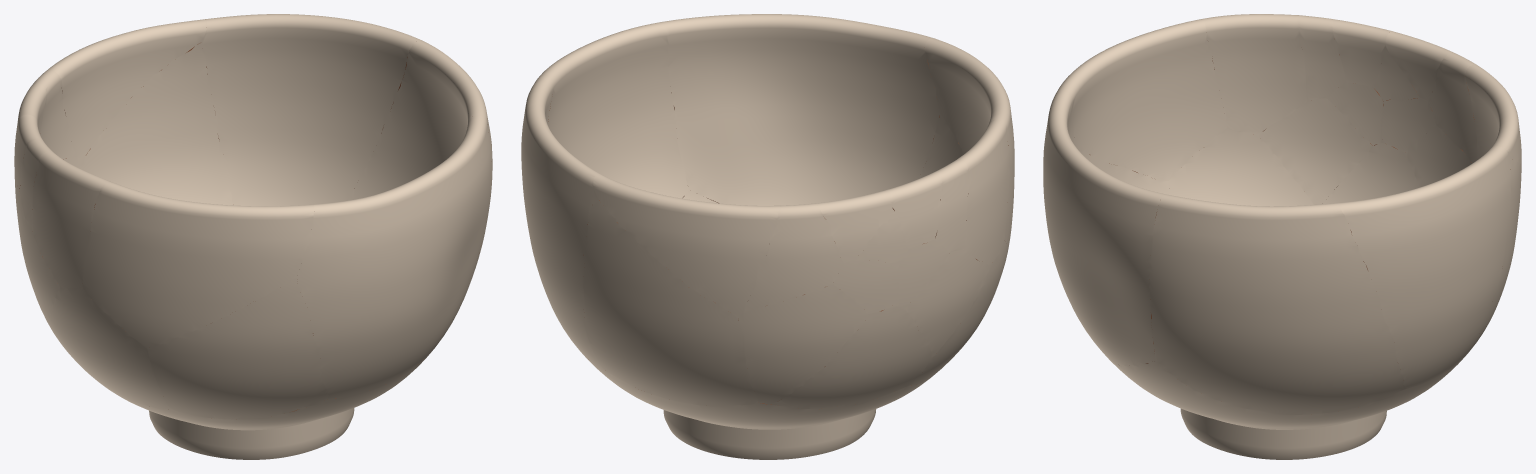
Rendered from Z4_fling.glb.
The picture shows the model from 3 angles, left to right: view 1: azimuth 30°, elevation 25°; view 2: azimuth 150°, elevation 25°; view 3: azimuth 270°, elevation 25°; orthographic projection.
Visible parts, largest first — view 1: shard_18, shard_17, shard_15, shard_16, shard_14, shard_19, shard_12, shard_00, shard_13, shard_08, shard_07, shard_09 (+3 smaller); view 2: shard_18, shard_14, shard_19, shard_12, shard_17, shard_00, shard_10, shard_11, shard_15, shard_07, shard_08, shard_09 (+8 smaller); view 3: shard_19, shard_17, shard_18, shard_15, shard_00, shard_08, shard_13, shard_09, shard_12, shard_07, shard_11, shard_04 (+8 smaller).
Boxes of the visible parts, x1,y1,x2,y2 form: shard_18: [297, 115, 491, 398]; shard_17: [202, 14, 421, 206]; shard_15: [82, 181, 314, 347]; shard_16: [147, 277, 328, 419]; shard_14: [82, 42, 233, 205]; shard_19: [348, 40, 492, 292]; shard_12: [48, 19, 206, 160]; shard_00: [95, 298, 464, 459]; shard_13: [49, 288, 172, 409]; shard_08: [32, 151, 109, 288]; shard_07: [31, 70, 76, 159]; shard_09: [20, 218, 60, 326]; shard_18: [660, 14, 939, 205]; shard_14: [583, 193, 757, 406]; shard_19: [537, 22, 688, 198]; shard_12: [593, 174, 779, 316]; shard_17: [521, 76, 600, 364]; shard_00: [585, 190, 929, 459]; shard_10: [737, 283, 868, 404]; shard_11: [772, 305, 933, 409]; shard_15: [925, 38, 1014, 246]; shard_07: [746, 203, 843, 309]; shard_08: [957, 119, 1009, 267]; shard_09: [905, 250, 989, 355]; shard_19: [1149, 194, 1404, 414]; shard_17: [1337, 146, 1510, 389]; shard_18: [1043, 91, 1165, 365]; shard_15: [1056, 19, 1227, 181]; shard_00: [1109, 356, 1465, 459]; shard_08: [1203, 14, 1308, 135]; shard_13: [1168, 127, 1313, 206]; shard_09: [1258, 97, 1372, 204]; shard_12: [1465, 64, 1521, 164]; shard_07: [1428, 52, 1477, 163]; shard_11: [1323, 143, 1419, 204]; shard_04: [1298, 15, 1345, 100].
Bounding box in the file's own units: 0.1228 × 0.0871 × 0.122.
